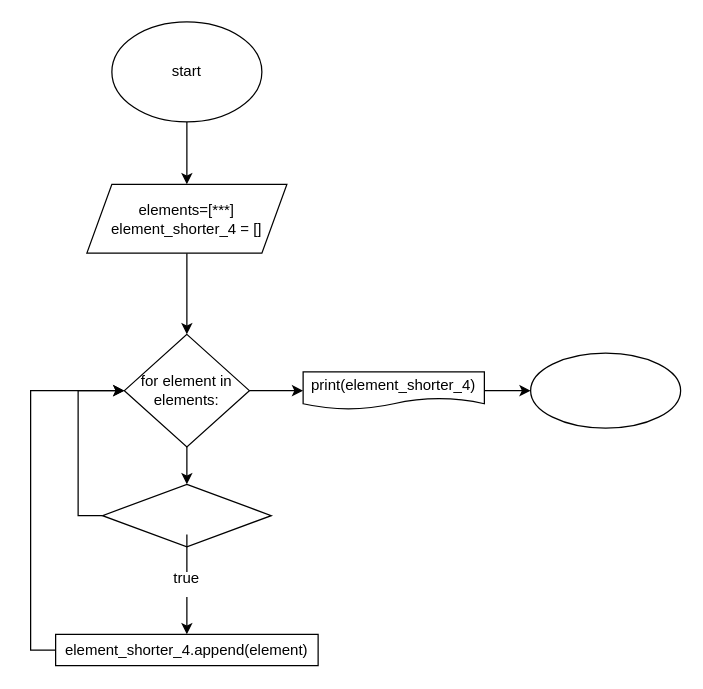
Image size: 703x689. Some labels were removed from this diagram. Each missing label, with the box of its shape:
end: (529, 352, 681, 428)
if len(element) < 4:: (101, 483, 271, 547)
